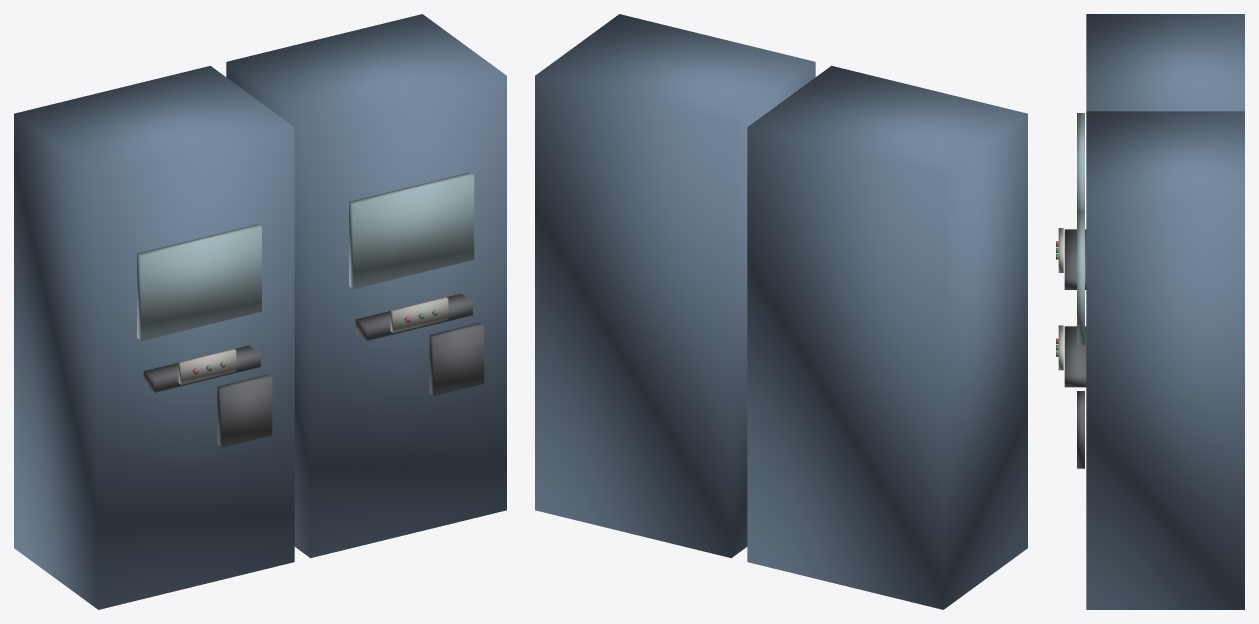
File: atm__cluster.glb
3 views of the same model, side by side, from view 1: azimuth 30°, elevation 25°; view 2: azimuth 150°, elevation 25°; view 3: azimuth 270°, elevation 25° (orthographic). The views are drawn at different scales.
Parts seen in each view (by area): view 1: world; view 2: world; view 3: world.
Boxes of the visible parts, left/top/right/bottom form: world: left=14, top=14, right=506, bottom=609; world: left=535, top=14, right=1027, bottom=609; world: left=1056, top=14, right=1244, bottom=609.
Bounding box in the file's own units: 1.62 × 1.65 × 0.691.
